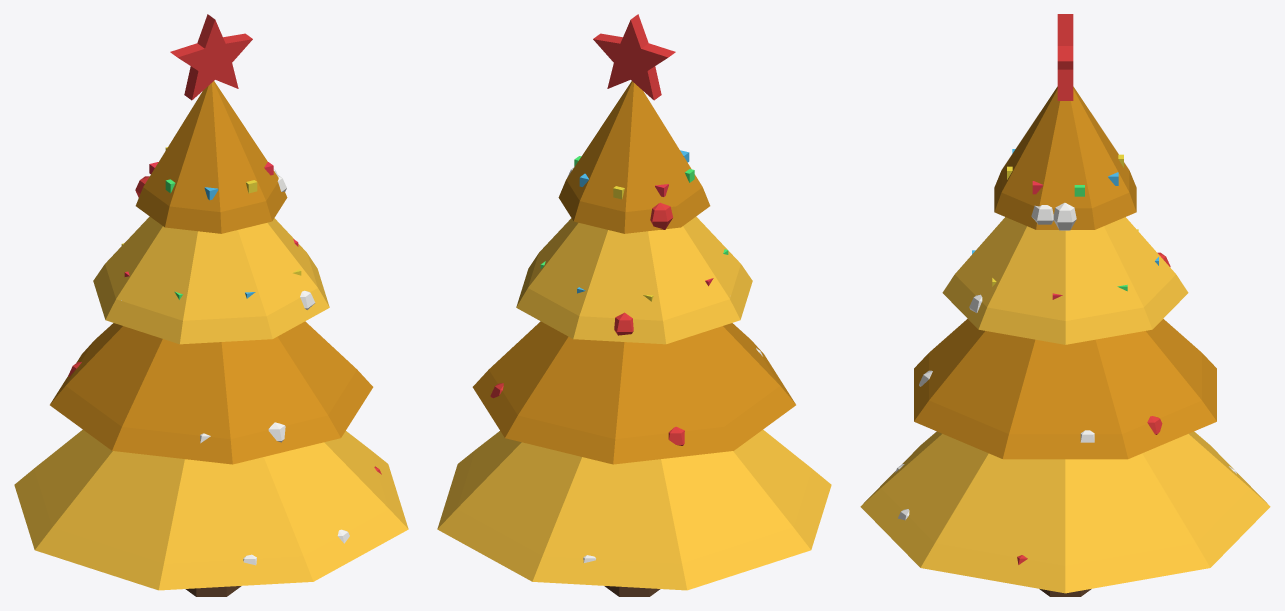
The model's file is GoldChristmasTree.fbx.
3 views of the same model, side by side, from view 1: azimuth 30°, elevation 25°; view 2: azimuth 150°, elevation 25°; view 3: azimuth 270°, elevation 25° (orthographic).
Parts seen in each view (by area): view 1: GoldChristmasTree; view 2: GoldChristmasTree; view 3: GoldChristmasTree.
Part boxes in pixels (<box>): GoldChristmasTree: <box>14,14,408,596</box>; GoldChristmasTree: <box>437,14,831,596</box>; GoldChristmasTree: <box>860,14,1270,596</box>.
Size of the model in its own units: 8 by 12.3 by 8.
Materials: 1 (1 with a texture image).
